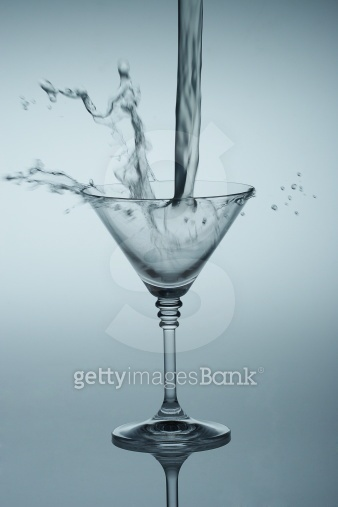glass of water: (80, 151, 253, 461)
